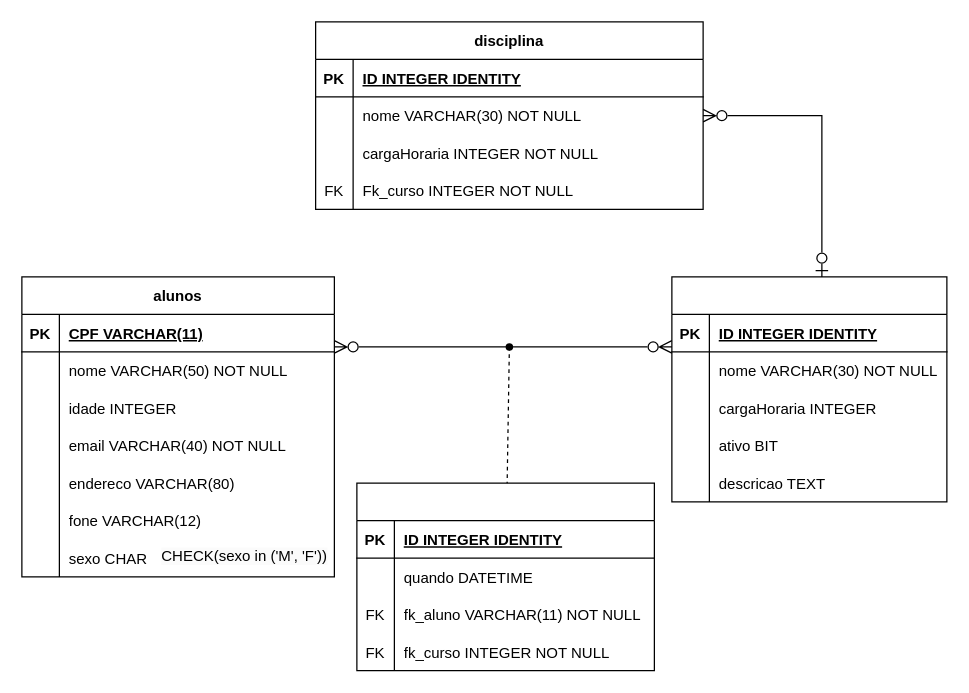
This 969x693 diagram has some shape labels left out. Here are the shapes that lost their labels. From the top down, the box of each, then its label:
(671, 276, 947, 502): cursos
(356, 482, 654, 671): matriculas
